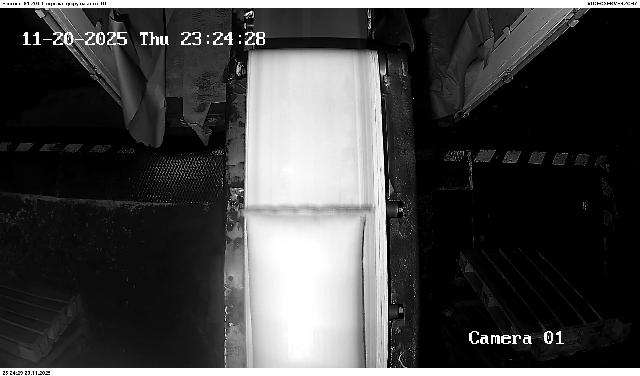bag: (242, 211, 367, 368)
